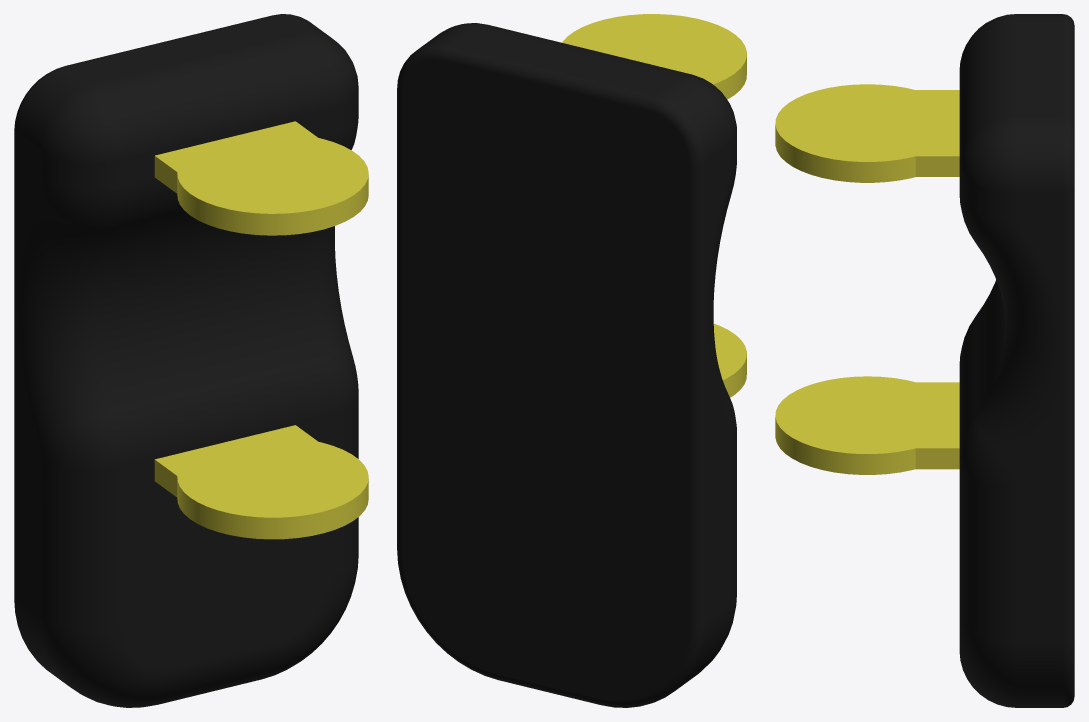
Rendered from foot_sinister.obj.
3 renders of one model, left to right at view 1: azimuth 30°, elevation 25°; view 2: azimuth 150°, elevation 25°; view 3: azimuth 270°, elevation 25°, orthographic. The views are drawn at different scales.
Visible parts, largest first — view 1: Body1:1, Body3, Body4, Body2, Body1; view 2: Body1:1, Body4, Body3; view 3: Body1:1, Body3, Body4, Body2, Body1.
Part boxes in pixels (x1,y1,x2,y2): Body1:1: (14, 14, 358, 707); Body3: (177, 437, 368, 539); Body4: (177, 133, 368, 235); Body2: (154, 121, 319, 193); Body1: (154, 425, 317, 497); Body1:1: (397, 23, 736, 707); Body4: (562, 14, 746, 99); Body3: (713, 323, 746, 397); Body1:1: (959, 14, 1074, 707); Body3: (775, 376, 958, 474); Body4: (775, 84, 956, 182); Body2: (913, 90, 959, 176); Body1: (913, 382, 959, 469).
Size of the model in its own units: 0.15 by 0.29 by 0.13.
